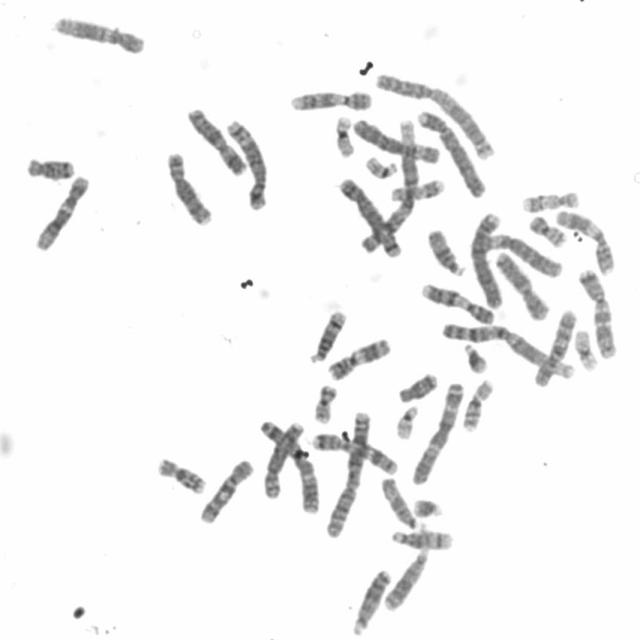A1: (355, 112, 423, 254), (437, 316, 579, 382)
A2: (370, 67, 500, 161), (321, 403, 375, 540)
A3: (255, 413, 323, 516), (408, 376, 468, 485)
B4: (412, 102, 488, 200), (468, 204, 508, 310)
B5: (335, 170, 405, 258), (222, 113, 272, 211)
C10: (195, 453, 257, 526), (530, 303, 580, 389)
C11: (552, 203, 619, 276), (323, 332, 395, 382)
C12: (31, 169, 93, 252), (48, 9, 148, 56)
C6: (349, 112, 444, 164), (476, 228, 567, 279)
C7: (308, 426, 402, 476), (574, 261, 620, 361)
C8: (162, 145, 215, 227), (259, 415, 309, 501)
C9: (417, 277, 498, 326), (285, 83, 376, 113)
D13: (347, 563, 395, 637), (381, 544, 432, 612)
D14: (306, 304, 350, 365), (387, 524, 456, 552)
D15: (378, 471, 427, 532), (423, 223, 469, 277)
E16: (153, 451, 210, 496), (458, 372, 497, 433)
E17: (386, 172, 449, 203), (518, 184, 583, 214)
E18: (22, 150, 78, 182), (394, 366, 441, 404)
F19: (570, 323, 603, 373), (329, 109, 358, 158)
F20: (525, 209, 570, 248), (309, 378, 341, 425)
G21: (458, 337, 492, 375), (408, 492, 447, 519)
G22: (392, 399, 422, 441), (362, 150, 402, 180)
X: (183, 101, 250, 177), (490, 244, 553, 322)
